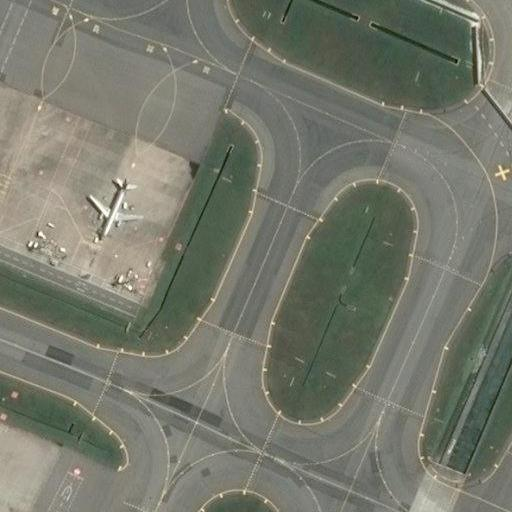Aircraft: (84, 172, 144, 240)
